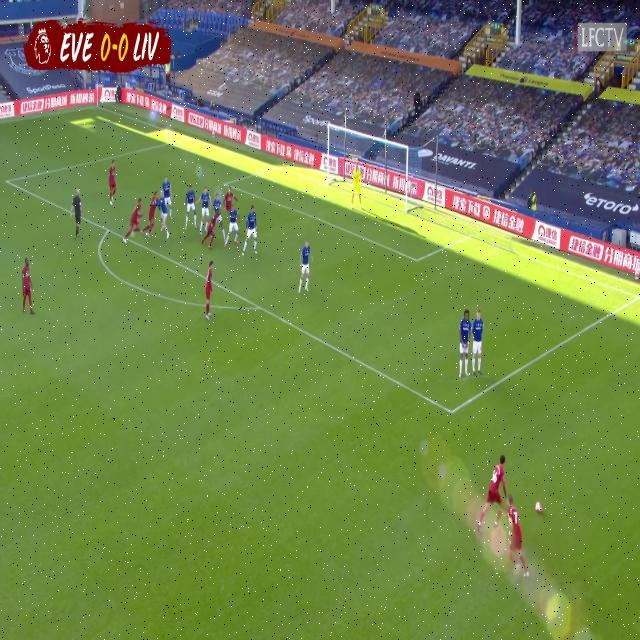Ball: (533, 497, 543, 518)
GoalKeeper: (347, 164, 364, 212)
TEAM 1: (477, 448, 505, 556), (505, 492, 534, 588), (20, 251, 37, 313), (144, 188, 160, 241), (124, 195, 141, 241), (203, 204, 220, 248), (203, 257, 214, 320), (106, 159, 119, 206)
TEAM 2: (239, 205, 260, 259), (471, 303, 485, 380), (456, 302, 469, 376), (184, 179, 197, 243), (224, 205, 242, 246), (158, 195, 172, 245), (300, 239, 311, 301), (161, 173, 175, 220), (200, 186, 210, 236), (222, 183, 240, 210)
